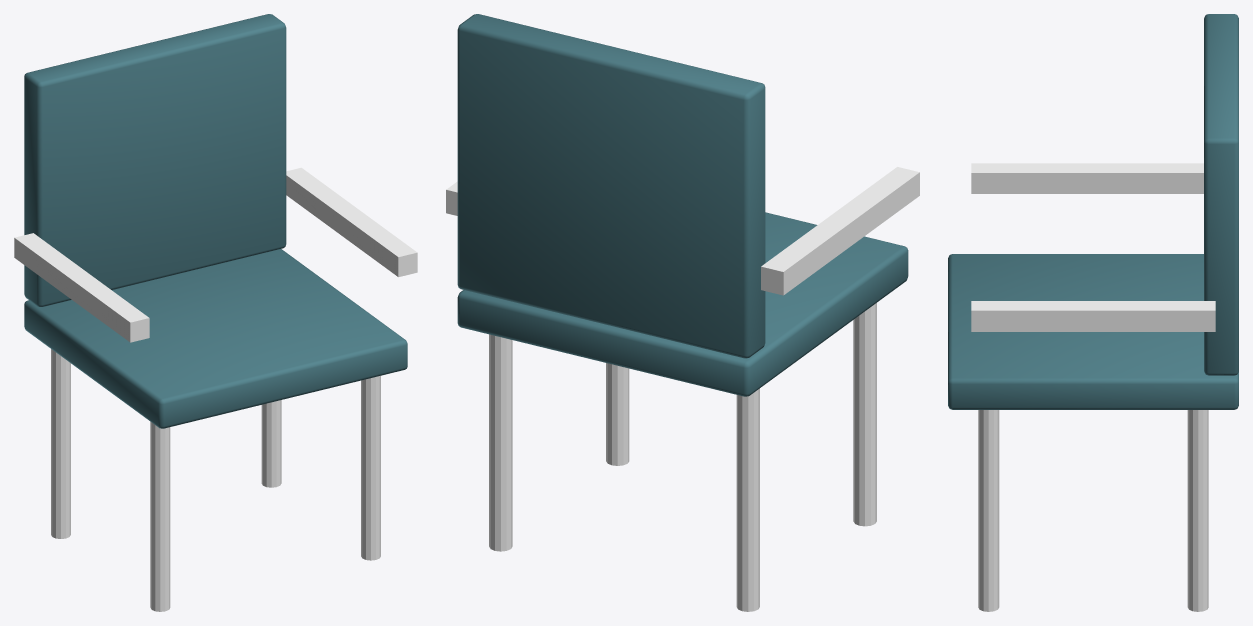
File: hm_bank_lobby_chair_v2.glb
The picture shows the model from 3 angles, left to right: view 1: azimuth 30°, elevation 25°; view 2: azimuth 150°, elevation 25°; view 3: azimuth 270°, elevation 25°; orthographic projection. The views are drawn at different scales.
Visible parts, largest first — view 1: LC_Back, LC_Seat, LC_Arm_-0.28, LC_Arm_0.28, LC_LegF_-0.22, LC_LegB_-0.22, LC_LegF_0.22, LC_LegB_0.22; view 2: LC_Back, LC_Seat, LC_Arm_-0.28, LC_LegB_-0.22, LC_LegF_-0.22, LC_LegB_0.22, LC_LegF_0.22; view 3: LC_Seat, LC_Back, LC_Arm_0.28, LC_Arm_-0.28, LC_LegB_0.22, LC_LegF_0.22.
Part boxes in pixels (x1,y1,x2,y2): LC_Back: (24, 14, 286, 306); LC_Seat: (24, 249, 407, 428); LC_Arm_-0.28: (14, 233, 149, 342); LC_Arm_0.28: (286, 167, 417, 277); LC_LegF_-0.22: (150, 421, 170, 611); LC_LegB_-0.22: (51, 349, 70, 538); LC_LegF_0.22: (361, 375, 380, 560); LC_LegB_0.22: (261, 400, 281, 487); LC_Back: (457, 14, 765, 358); LC_Seat: (457, 212, 908, 396); LC_Arm_-0.28: (761, 167, 919, 295); LC_LegB_-0.22: (736, 388, 759, 611); LC_LegF_-0.22: (853, 303, 876, 526); LC_LegB_0.22: (489, 334, 512, 551); LC_LegF_0.22: (606, 363, 629, 465); LC_Seat: (948, 254, 1238, 409); LC_Back: (1204, 14, 1238, 375); LC_Arm_0.28: (971, 301, 1215, 331); LC_Arm_-0.28: (971, 163, 1203, 193); LC_LegB_0.22: (1187, 410, 1208, 611); LC_LegF_0.22: (978, 410, 999, 611).
Size of the model in its own units: 0.6 by 0.905 by 0.5.
